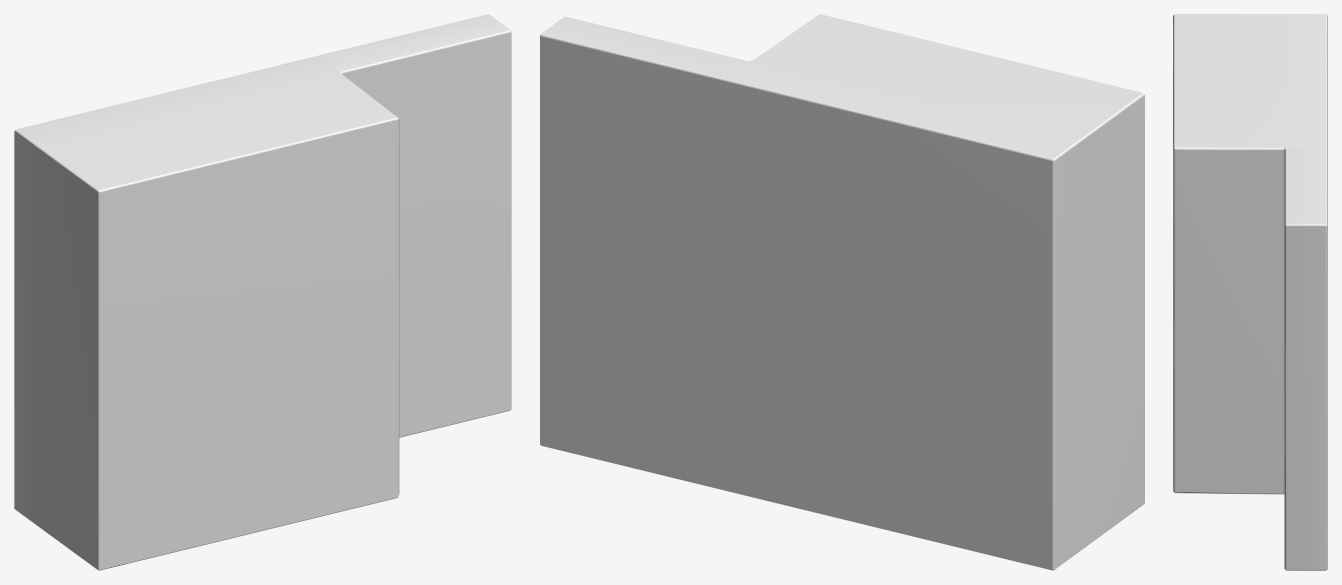
File: Wall_20.glb
3 renders of one model, left to right at view 1: azimuth 30°, elevation 25°; view 2: azimuth 150°, elevation 25°; view 3: azimuth 270°, elevation 25°, orthographic. The views are drawn at different scales.
Visible parts, largest first — view 1: Wall_20; view 2: Wall_20; view 3: Wall_20.
Part boxes in pixels (box(x1,y1,x2,y2)): Wall_20: box(14, 14, 511, 570); Wall_20: box(540, 14, 1144, 570); Wall_20: box(1173, 14, 1327, 570).
Size of the model in its own units: 4.6 by 3.52 by 1.42.
Materials: 1 (1 with a texture image).
